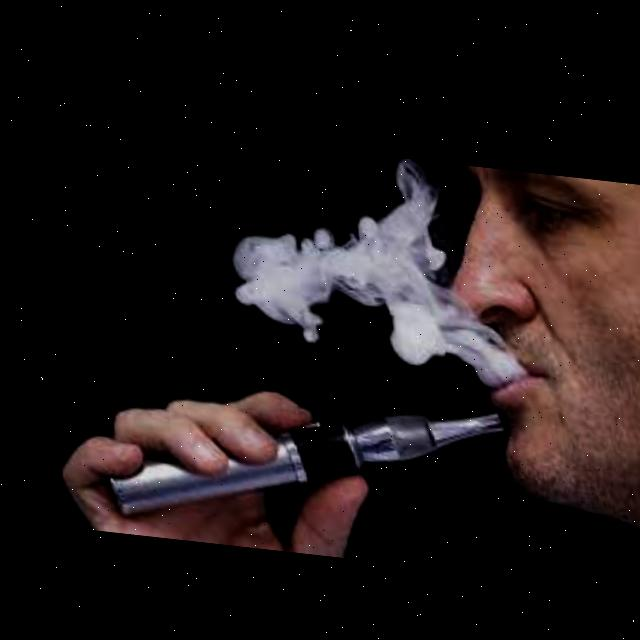vape: (85, 361, 512, 551)
